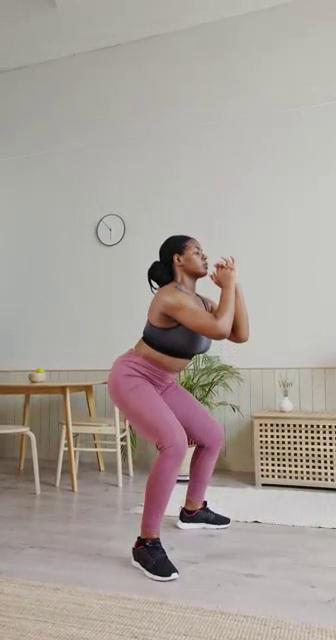Prepare: (106, 232, 252, 580)
